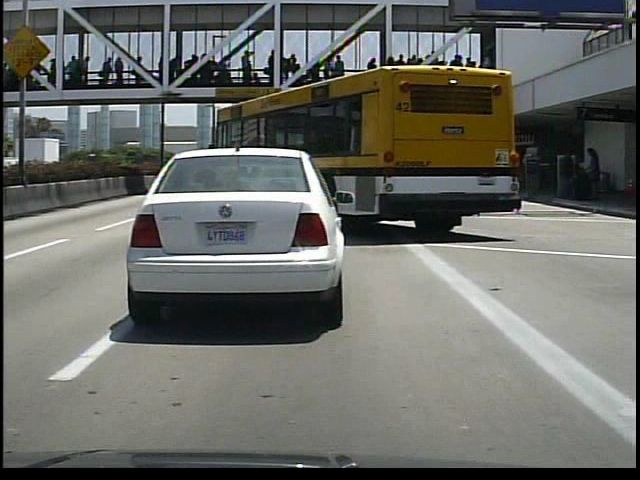person: (582, 144, 610, 206), (557, 143, 585, 204)
